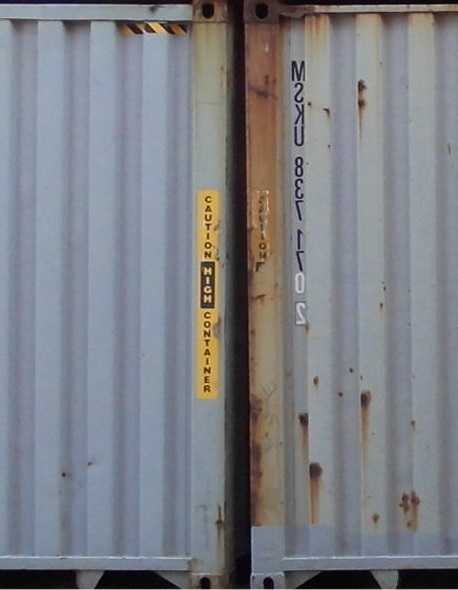container_no_door: (1, 2, 229, 587), (247, 1, 458, 584)
